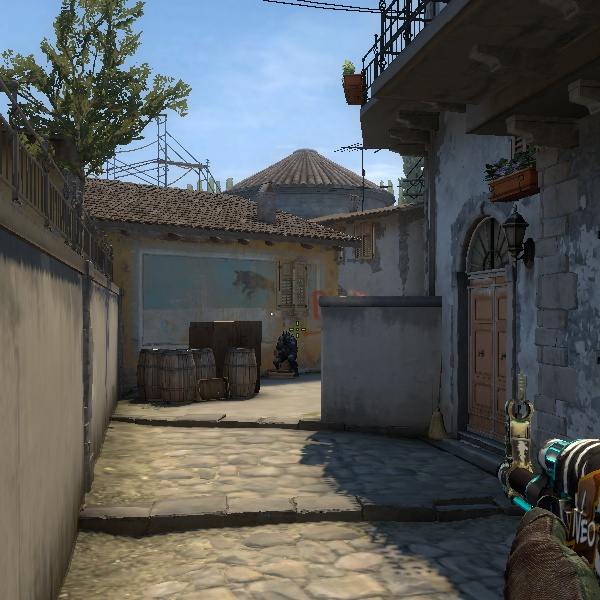ct_body: (272, 327, 301, 376)
t_body: (272, 327, 301, 376)
